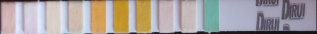color 1: (2, 3, 14, 32)
color 10: (205, 1, 217, 29)
color 2: (25, 4, 36, 32)
color 3: (47, 3, 59, 32)
color 4: (70, 3, 81, 31)
color 5: (92, 2, 104, 31)
color 6: (115, 2, 126, 31)
color 7: (137, 1, 149, 30)
color 8: (159, 1, 172, 31)
color 9: (182, 2, 194, 31)
